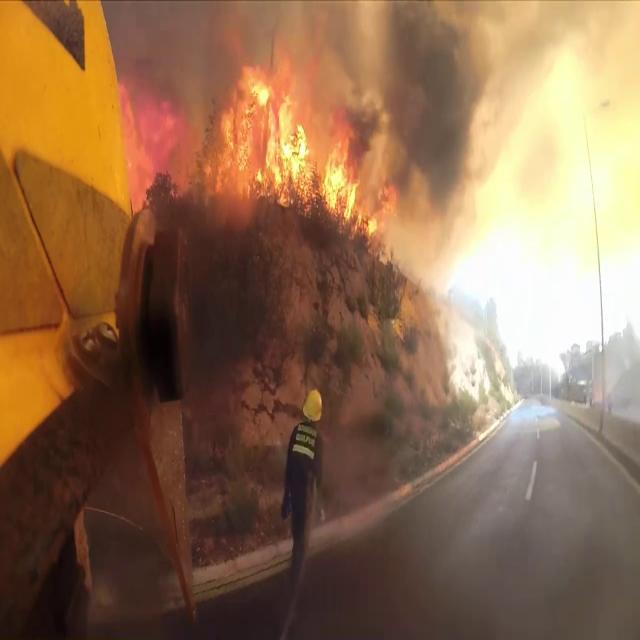Fire: (154, 52, 371, 216)
